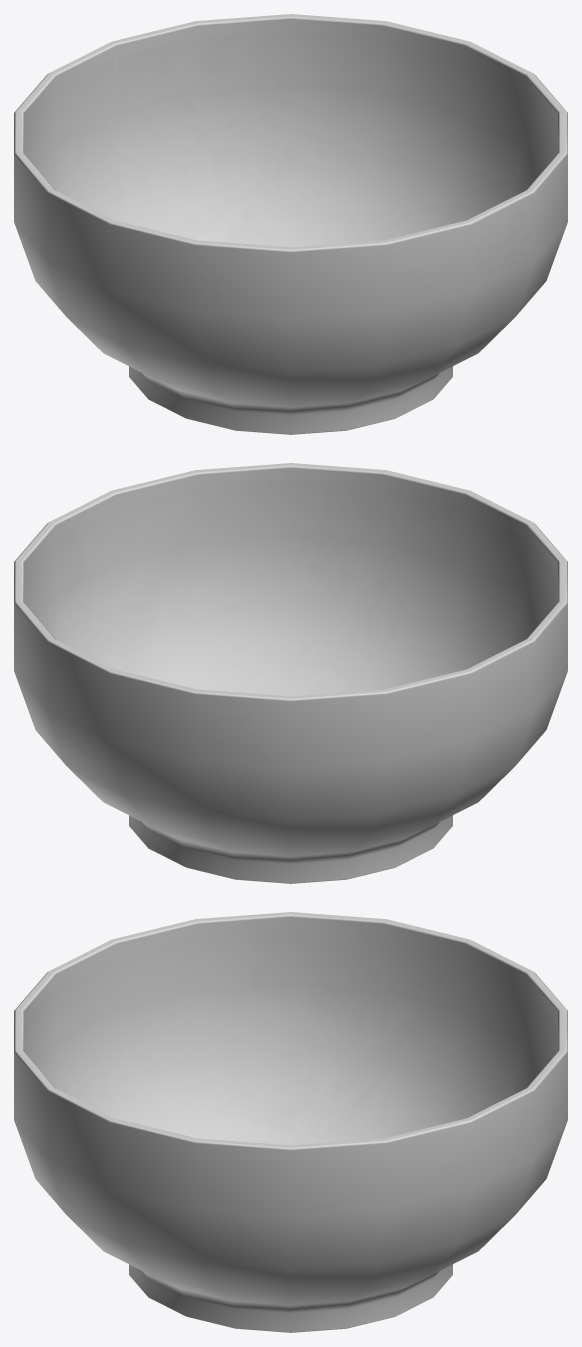
The model's file is FoodBowl_02 1.FBX.
The picture shows the model from 3 angles, top to bottom: view 1: azimuth 30°, elevation 25°; view 2: azimuth 150°, elevation 25°; view 3: azimuth 270°, elevation 25°; orthographic projection.
Visible parts, largest first — view 1: FoodBowl_02; view 2: FoodBowl_02; view 3: FoodBowl_02.
Part boxes in pixels (bbox=[...]): FoodBowl_02: bbox=[14, 14, 567, 434]; FoodBowl_02: bbox=[14, 463, 567, 883]; FoodBowl_02: bbox=[14, 912, 567, 1332].
Size of the model in its own units: 13.78 by 6.35 by 13.57.
Materials: 1 (1 with a texture image).
